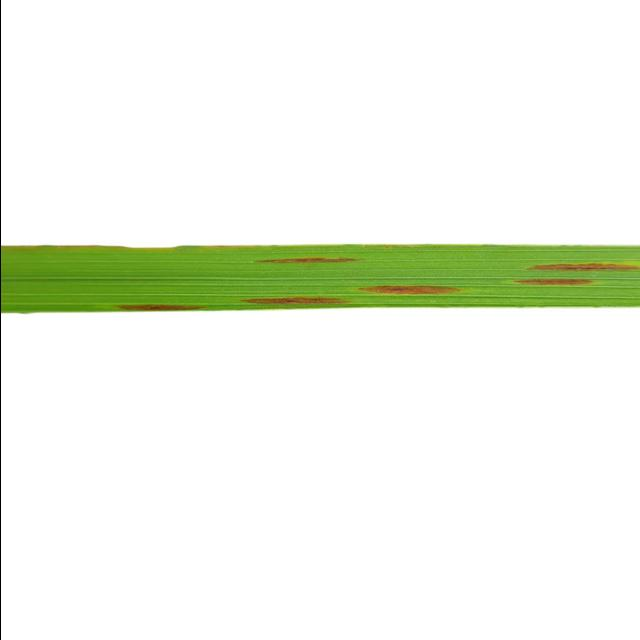Narrow brown: (0, 188, 640, 434)
